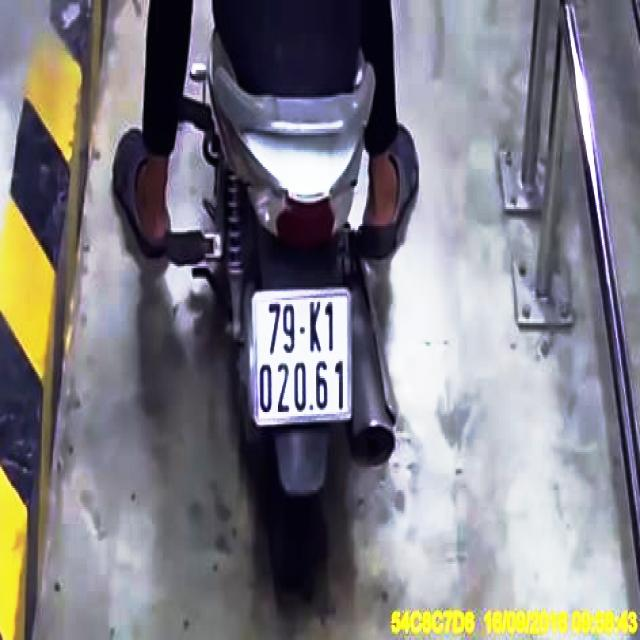license_plate: (252, 291, 352, 424)
